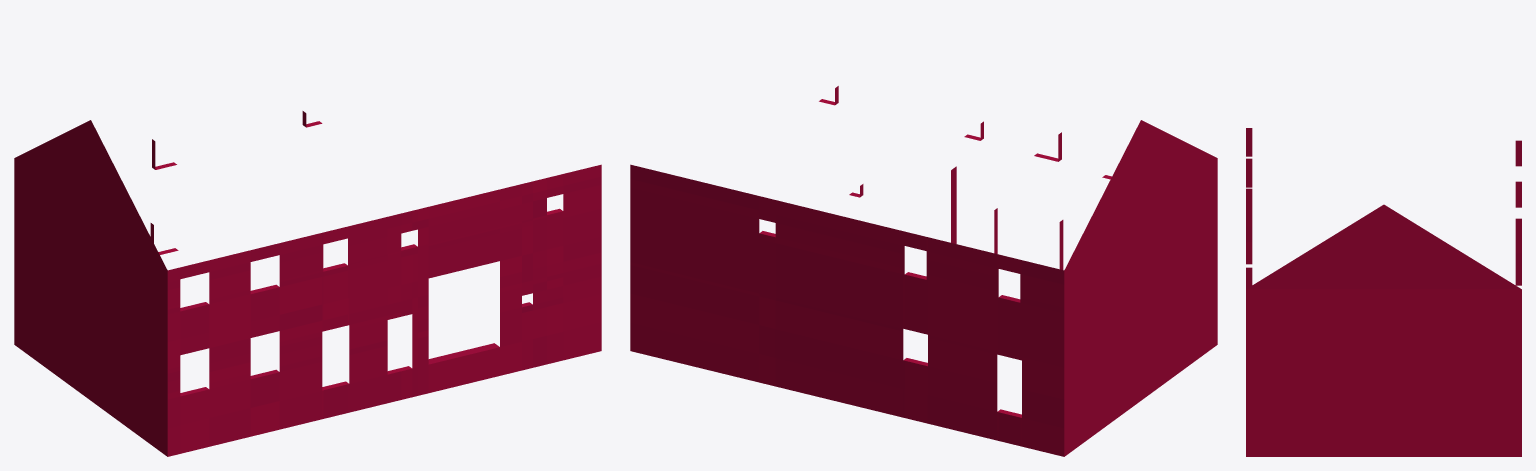
The model's file is SM_Bld_210_Masonry.glb.
3 renders of one model, left to right at view 1: azimuth 30°, elevation 25°; view 2: azimuth 150°, elevation 25°; view 3: azimuth 270°, elevation 25°, orthographic. The views are drawn at different scales.
Parts seen in each view (by area): view 1: SM_Bld_210_Masonry; view 2: SM_Bld_210_Masonry; view 3: SM_Bld_210_Masonry.
Part boxes in pixels (x1,y1,x2,y2): SM_Bld_210_Masonry: (14,111,601,456); SM_Bld_210_Masonry: (630,86,1217,456); SM_Bld_210_Masonry: (1246,128,1521,456).
Size of the model in its own units: 15.83 by 9.79 by 9.69.
